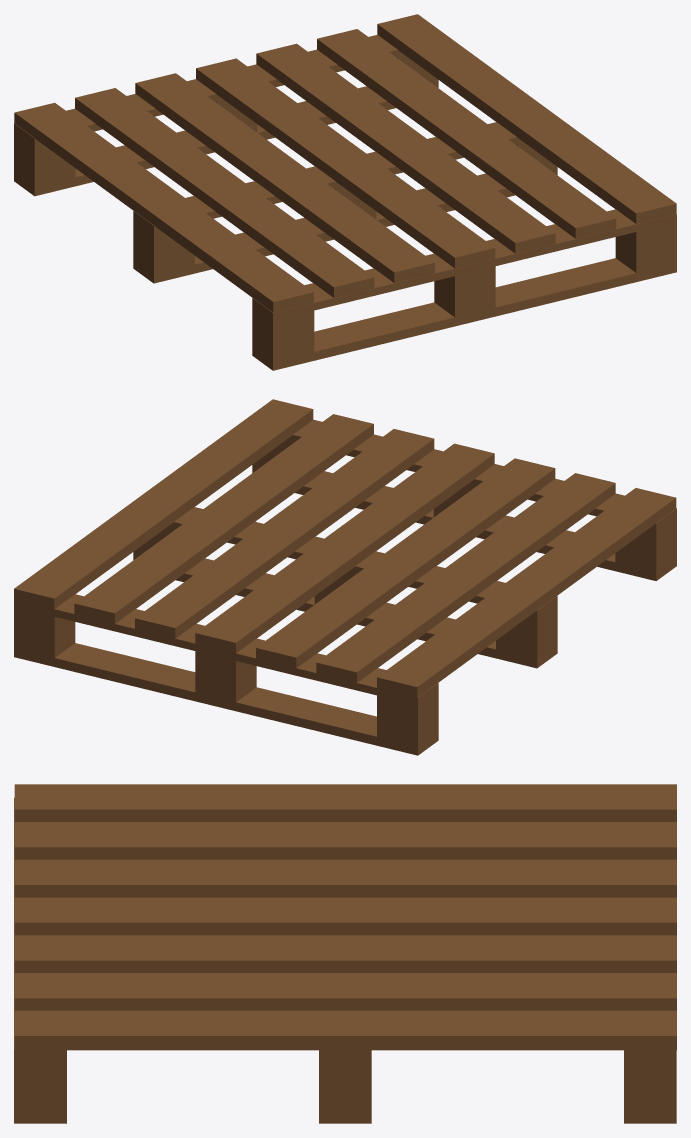
The model's file is WoodPallet.fbx.
3 renders of one model, top to bottom at view 1: azimuth 30°, elevation 25°; view 2: azimuth 150°, elevation 25°; view 3: azimuth 270°, elevation 25°, orthographic. The views are drawn at different scales.
Visible parts, largest first — view 1: Plane.002; view 2: Plane.002; view 3: Plane.002.
Part boxes in pixels (box(x1,y1,x2,y2)): Plane.002: box(14, 14, 676, 370); Plane.002: box(14, 399, 676, 755); Plane.002: box(14, 784, 676, 1123).
Size of the model in its own units: 1.54 by 1.71 by 0.2489.
